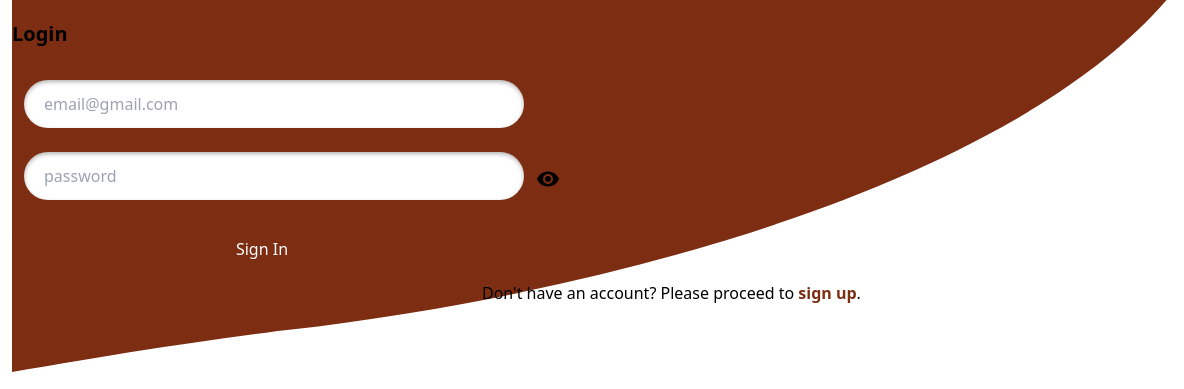
it: Signin page... › can render error message successfully if getting error response
This screenshot has width=1184, height=389.
Step 1. Type "ji@gmail.com" into the field with placeholder "email@gmail.com" → (274, 104), box [24,80,524,128]
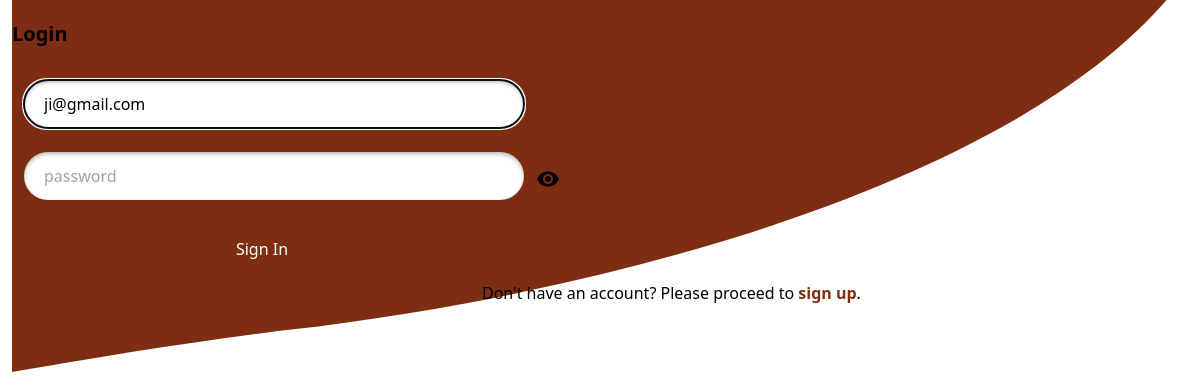
Step 2. Type "123456" into the password field with placeholder "password" → (274, 176), box [24,152,524,200]
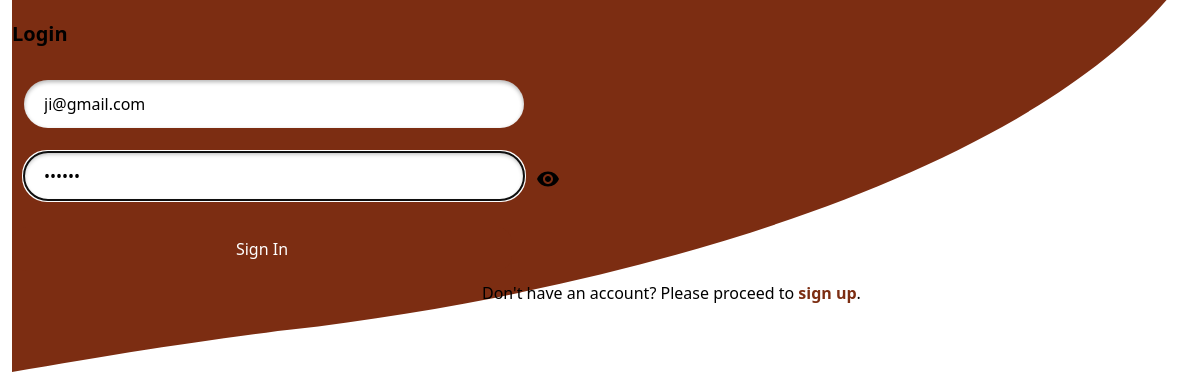
Step 3. Click the button "Sign In" → (262, 249), box [12,227,512,271]
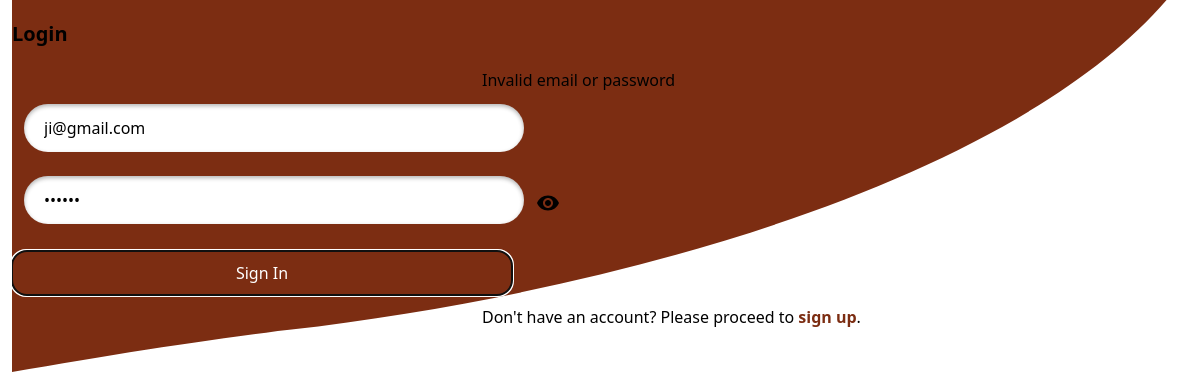
Expected: the text "Invalid email or password" is shown, [482,69,675,91]
